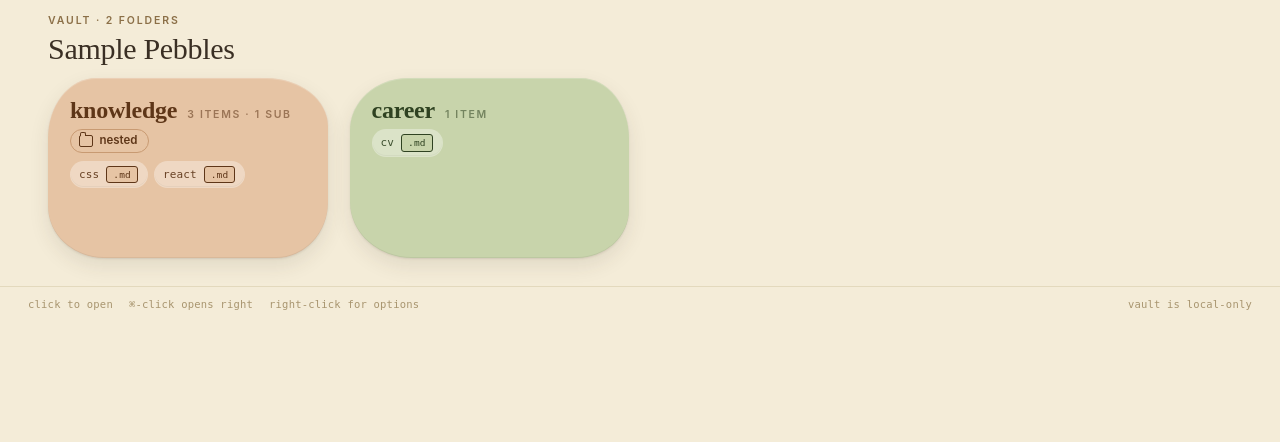
it: PebbleGarden › clicking a folder title drills into the folder and shows a breadcrumb back
This screenshot has width=1280, height=442.
Click the button "knowledge". click: (124, 111)
box: [70, 98, 177, 124]
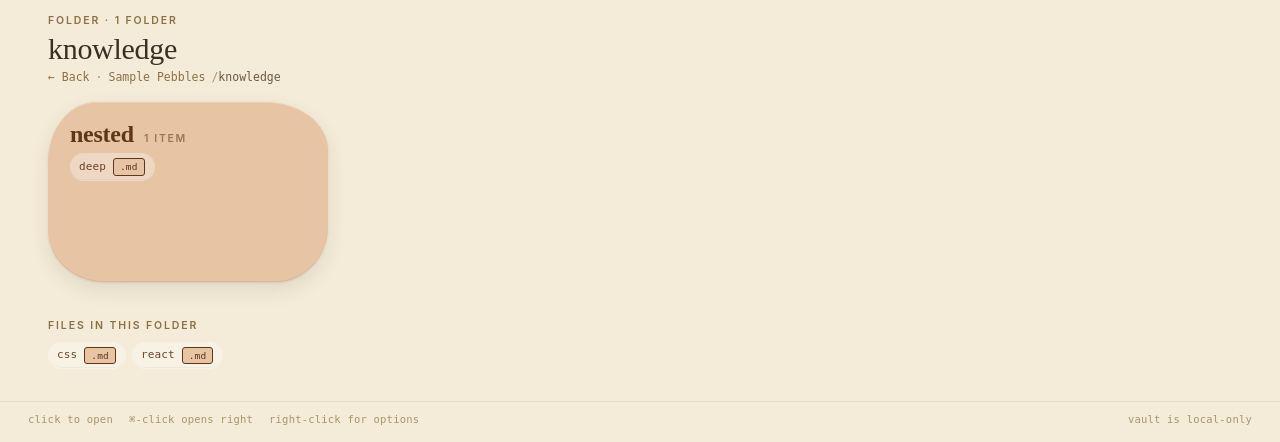
Check: the button "Sample Pebbles" is shown, box [108, 69, 205, 87]
Check: the heading "knowledge" is shown, box [48, 32, 177, 65]
